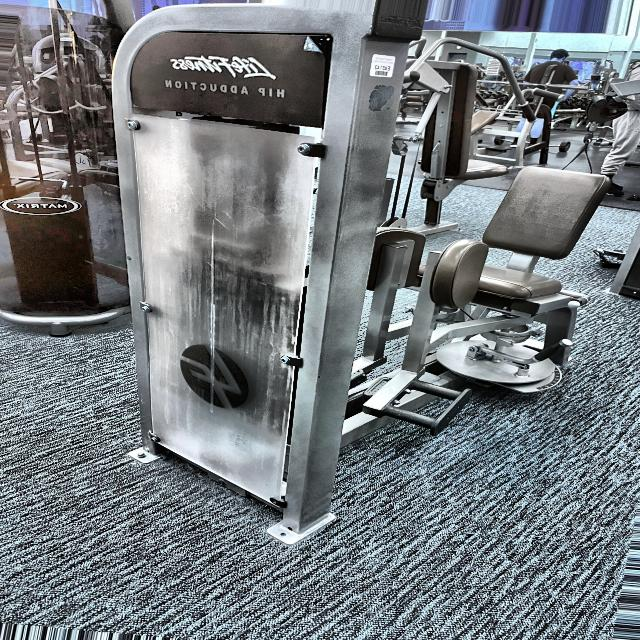hip_adduction_machine: (392, 110, 637, 468), (158, 70, 288, 119)
